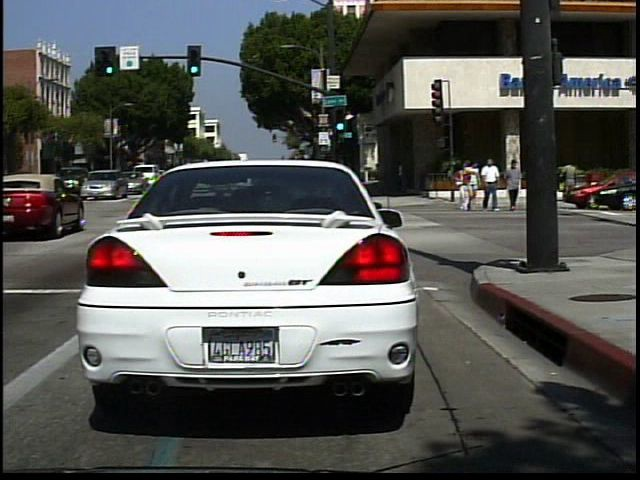person: (479, 154, 505, 214), (503, 156, 526, 211), (558, 156, 583, 204), (457, 163, 474, 213), (470, 157, 484, 210)
